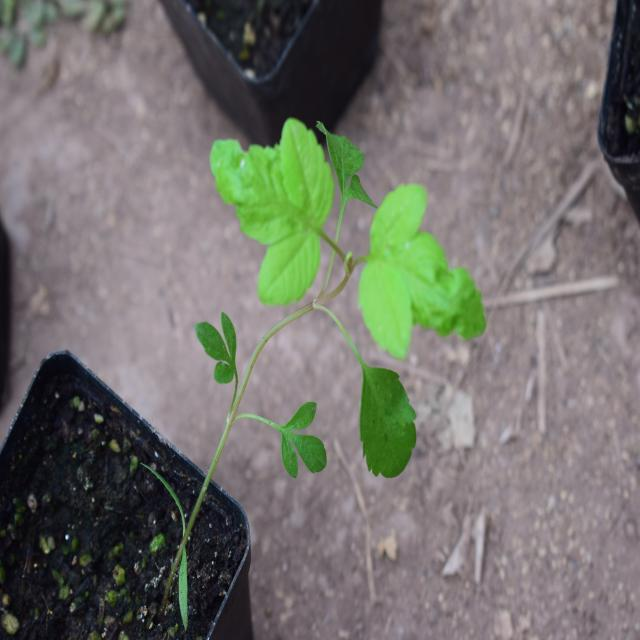Bidens pilosa: (192, 88, 497, 499)
